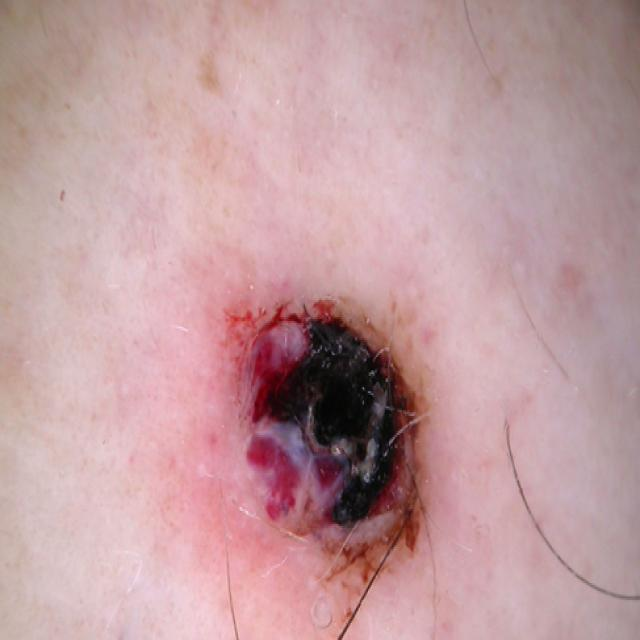Vascular Lesions: (182, 269, 529, 640)
